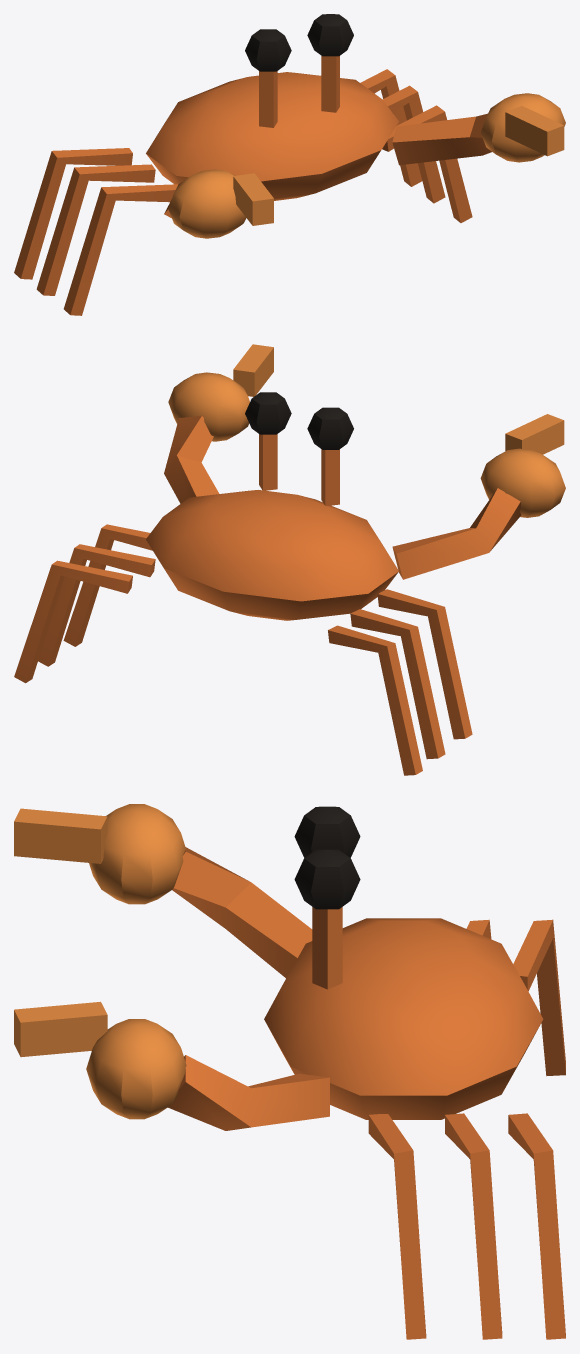
The model's file is beach_crab.glb.
3 renders of one model, top to bottom at view 1: azimuth 30°, elevation 25°; view 2: azimuth 150°, elevation 25°; view 3: azimuth 270°, elevation 25°, orthographic. The views are drawn at different scales.
Visible parts, largest first — view 1: beach_crab; view 2: beach_crab; view 3: beach_crab.
Part boxes in pixels (left/top/right/bottom): beach_crab: left=14, top=14, right=565, bottom=315; beach_crab: left=14, top=344, right=565, bottom=775; beach_crab: left=14, top=804, right=565, bottom=1339.
Bounding box in the file's own units: 0.5153 × 0.3286 × 0.4346.
1 material, 1 textured.
